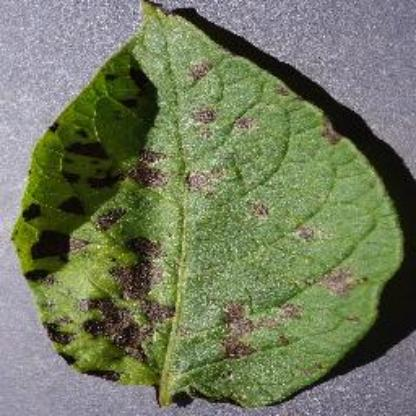Early-Blight: (15, 3, 405, 405)
